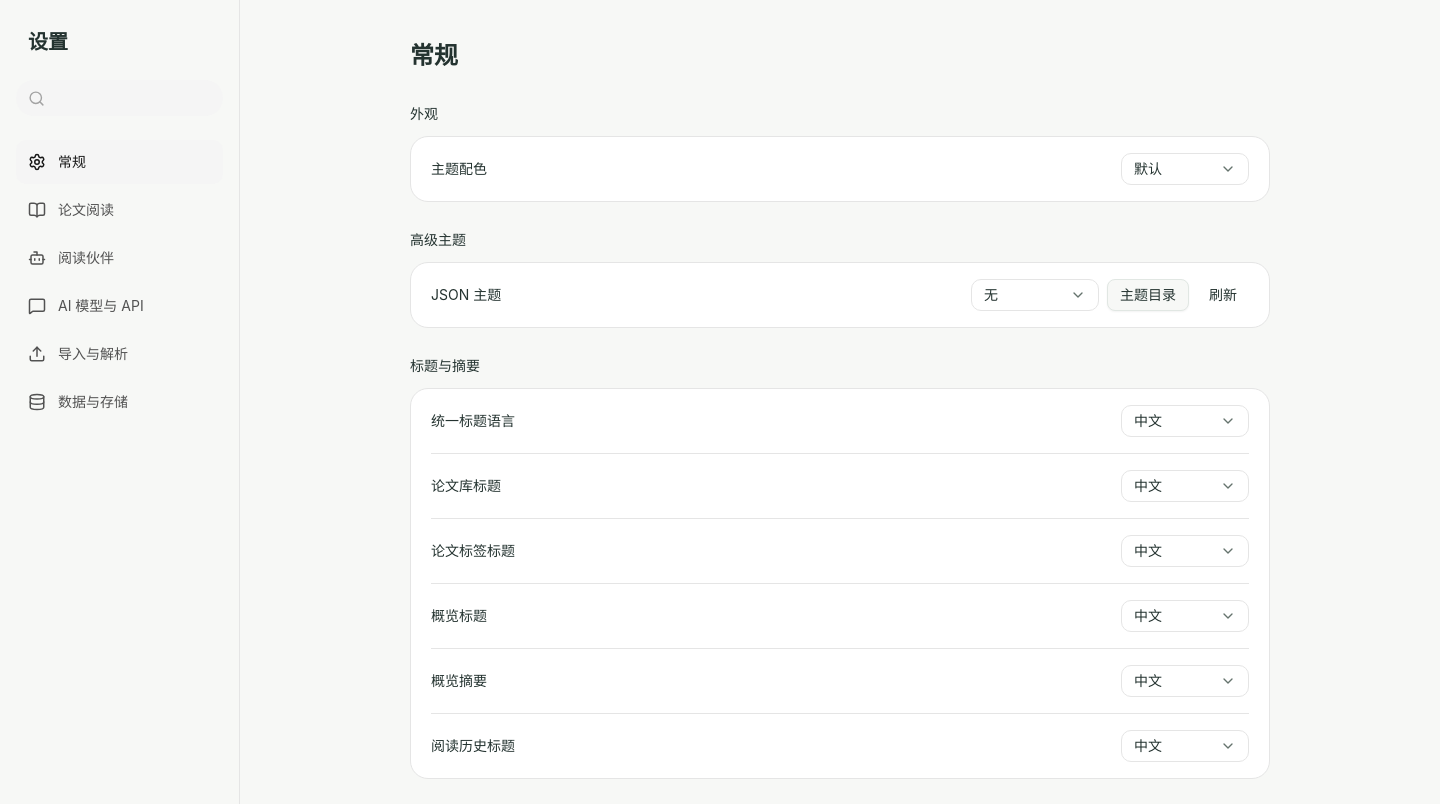
Test: validates and saves a custom concurrency value
Expected: the dropdown named "统一标题语言" is shown, x1=1121 y1=405 x2=1249 y2=437
Click the button "导入与解析" at (120, 354), box x1=16 y1=332 x2=223 y2=376
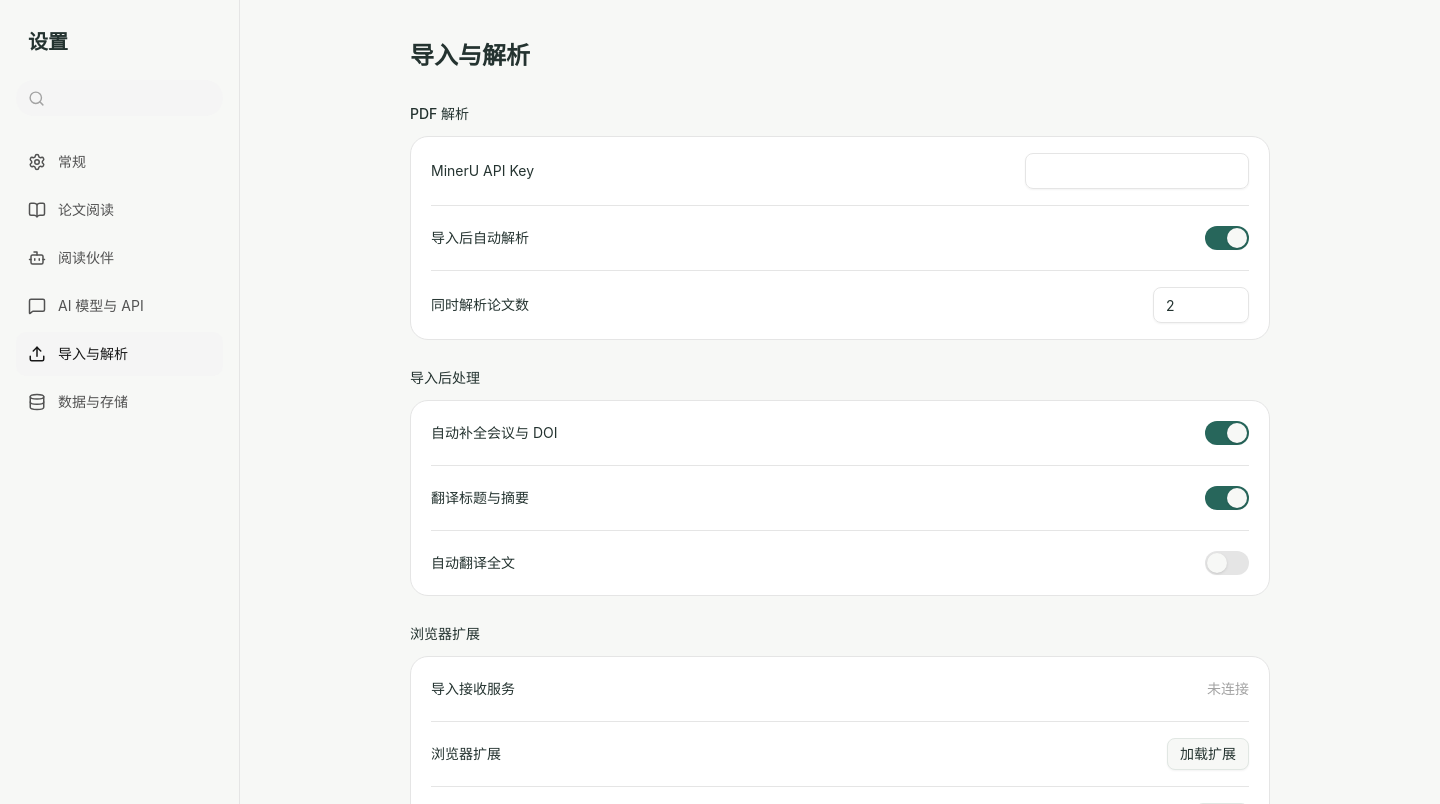
Replace the text in the number field named "同时解析论文数" with "8" at (1201, 305), box x1=1153 y1=287 x2=1249 y2=323
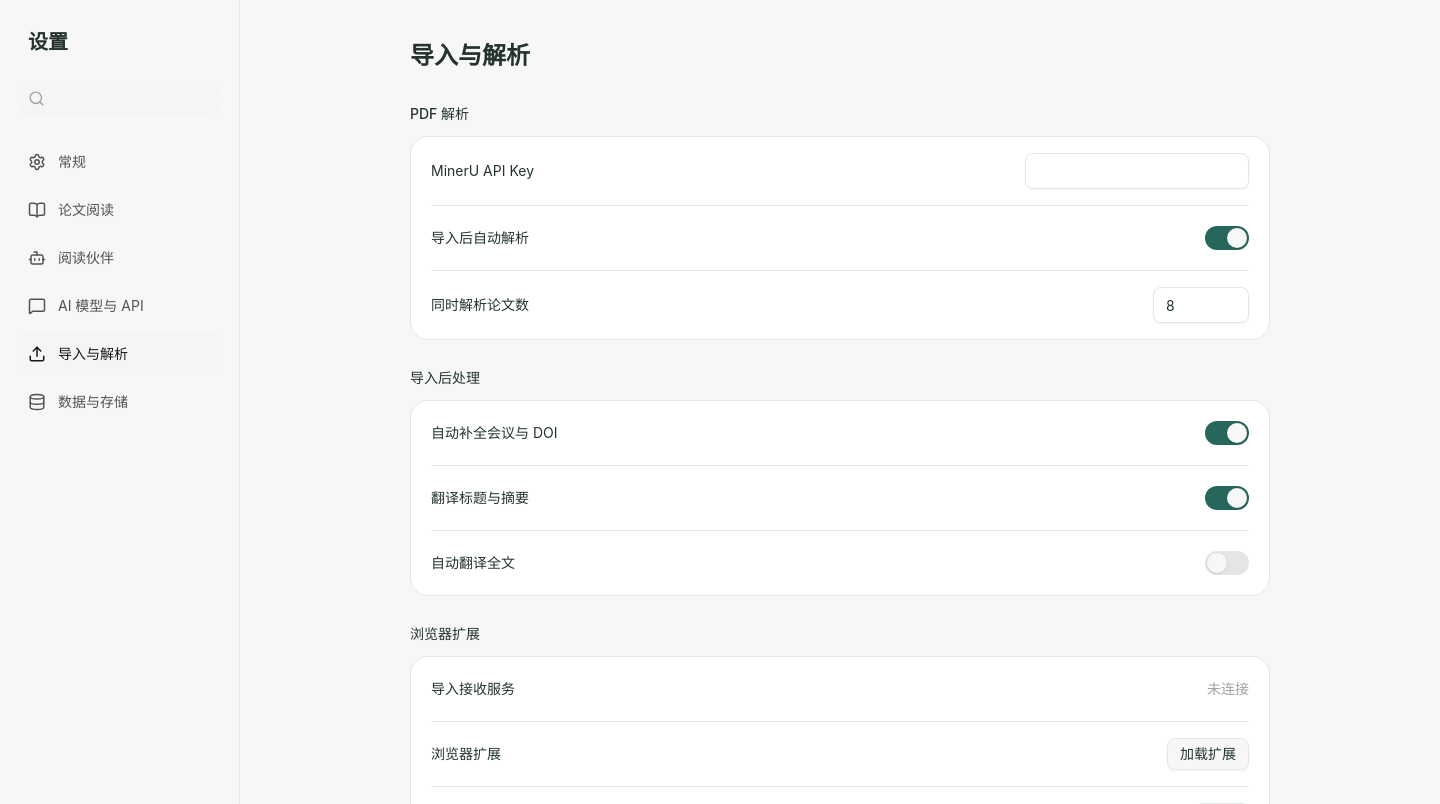
Replace the text in the number field named "同时解析论文数" with "0" at (1201, 305), box x1=1153 y1=287 x2=1249 y2=323
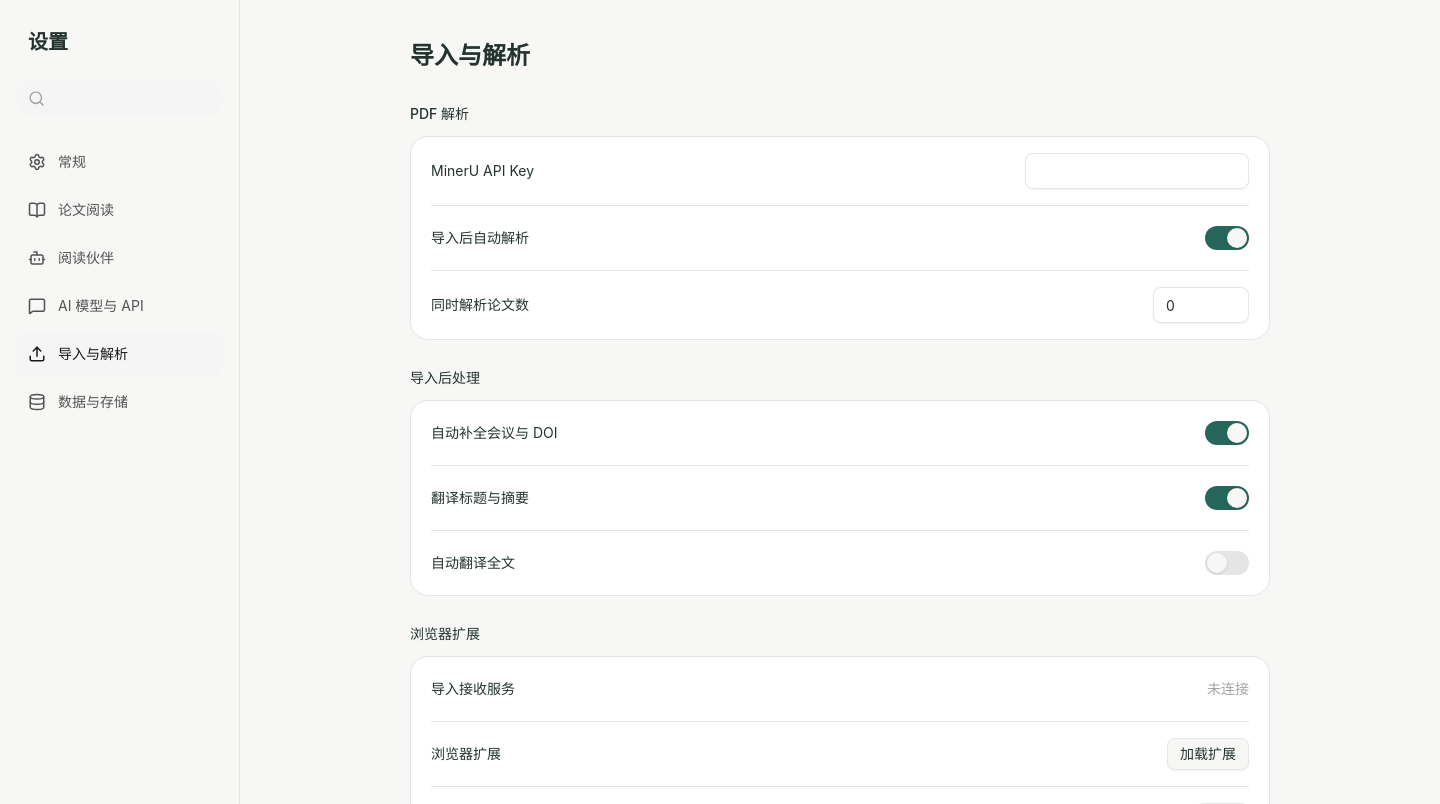
Leave the number field named "同时解析论文数", box x1=1153 y1=287 x2=1249 y2=323
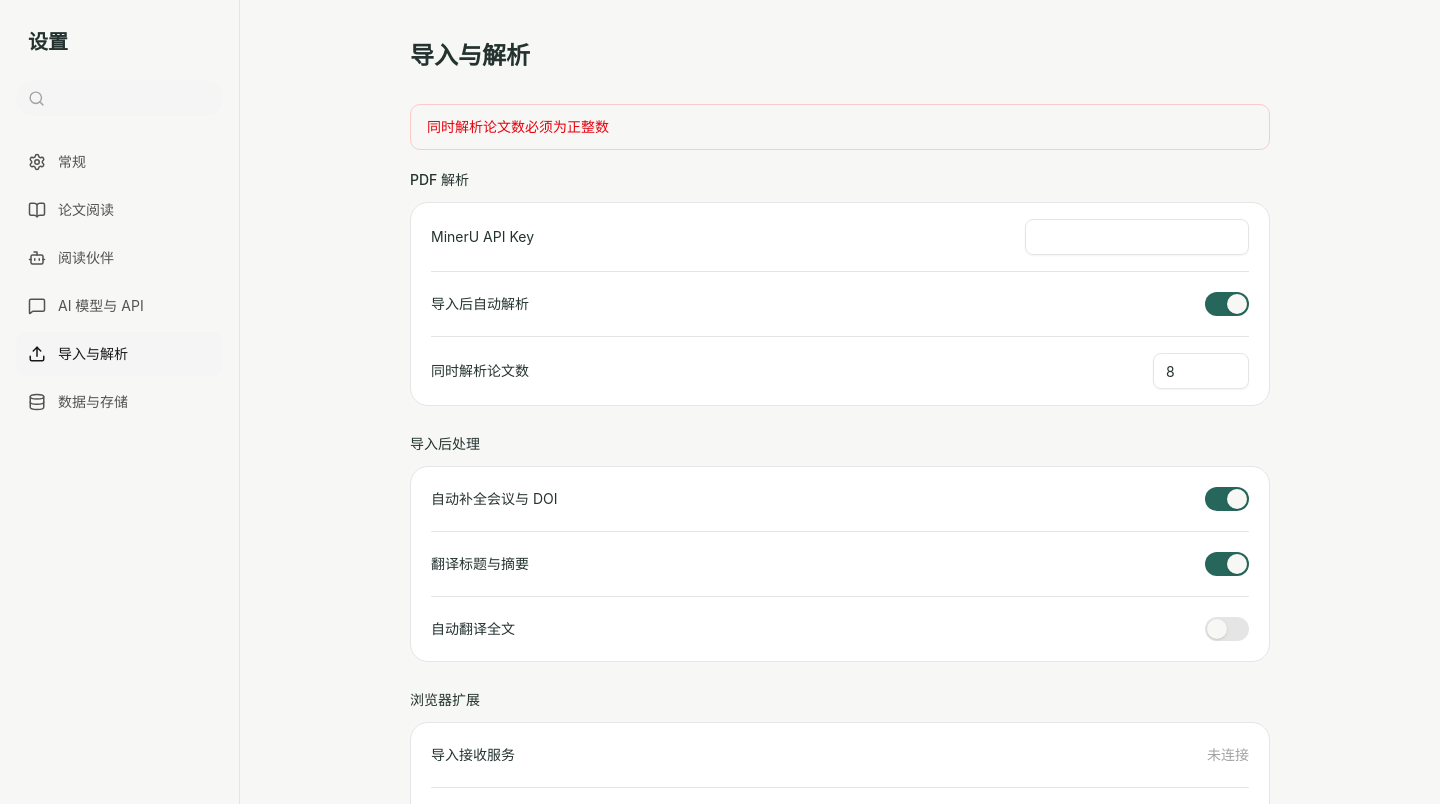
Expected: the message shows "正整数", x1=410 y1=104 x2=1270 y2=150
